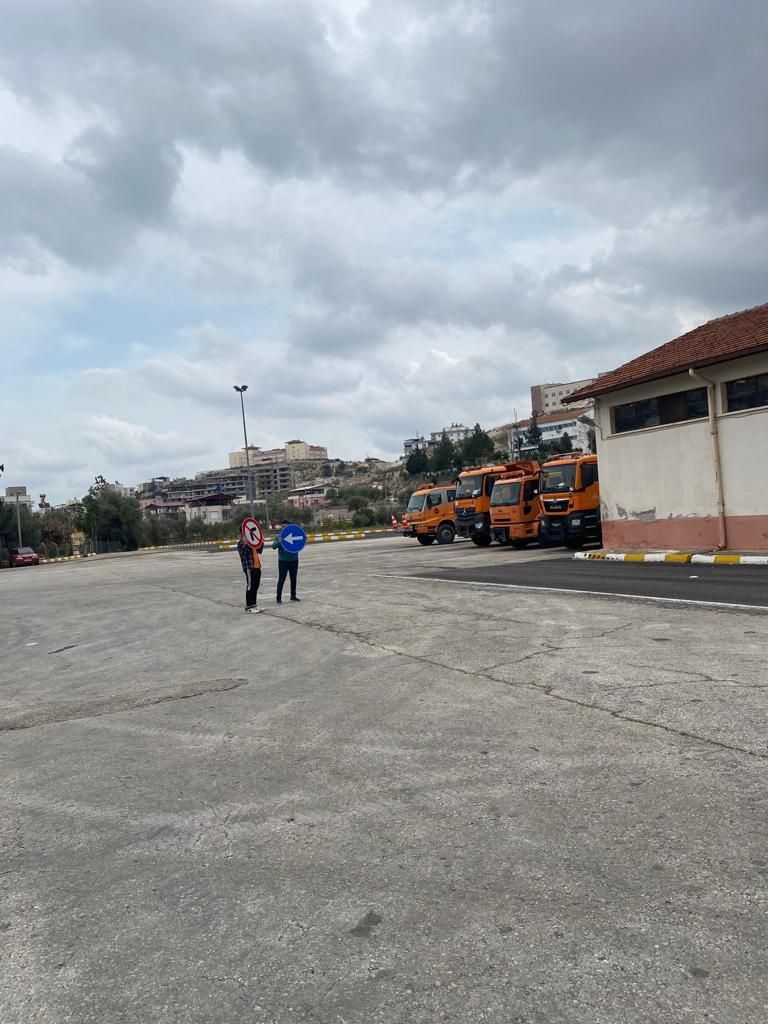rightturnsareforbidden: (241, 519, 264, 549)
turnleft: (281, 524, 306, 551)
